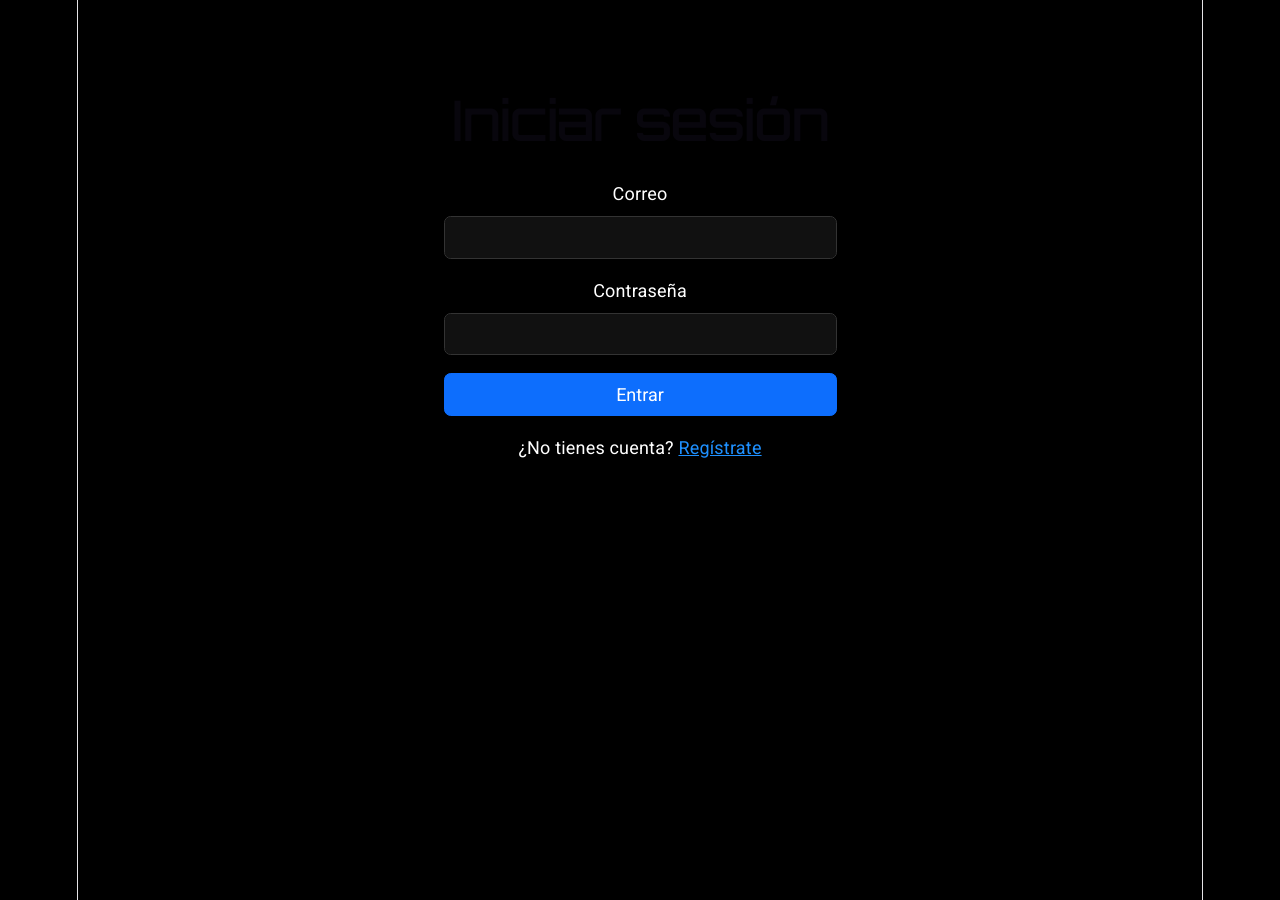
Test case: Login › muestra error si se envía vacío
This screenshot has width=1280, height=900.
Click the button "Entrar": click(640, 394) x1=444 y1=373 x2=836 y2=416
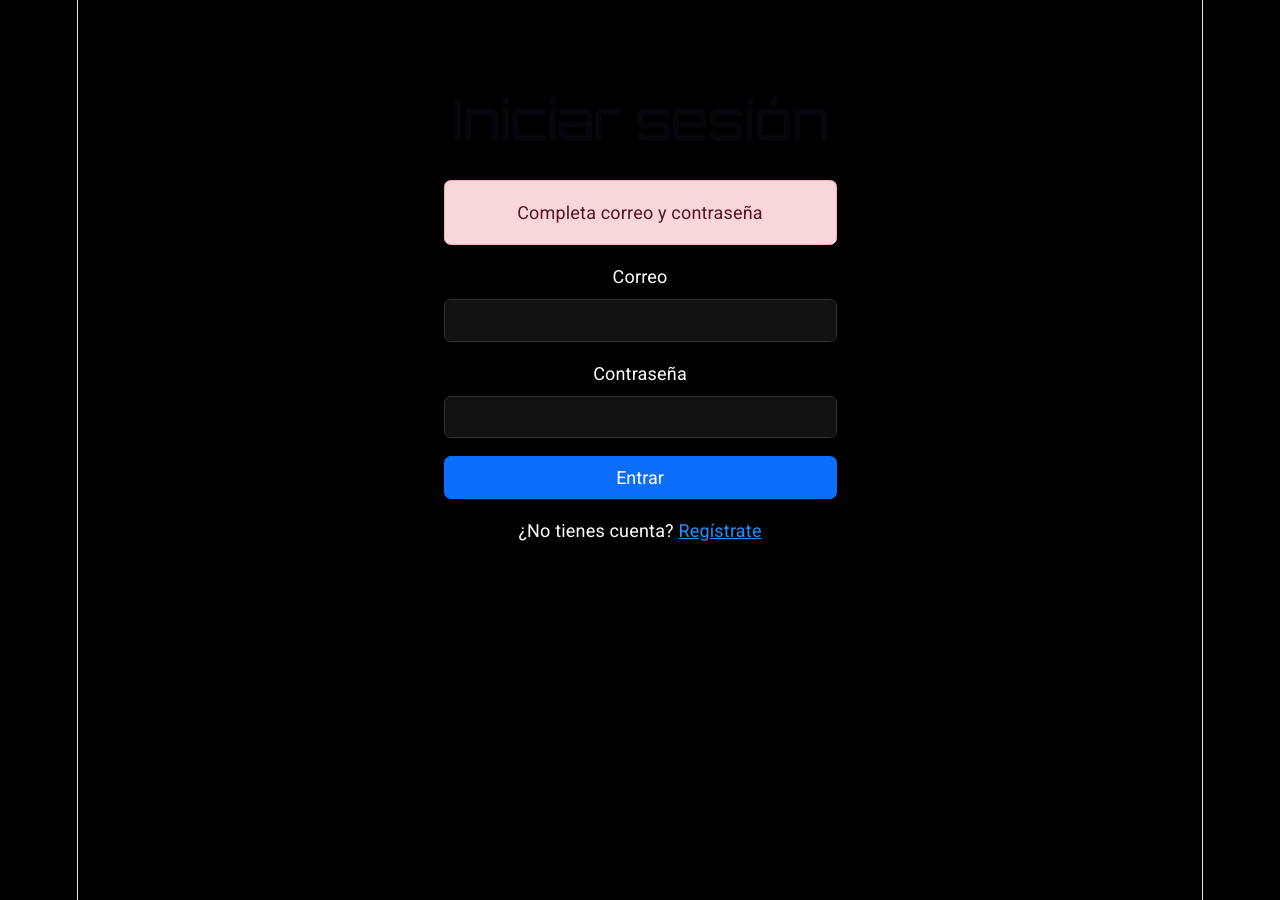
Check: the text "Completa correo y contraseña" is shown, box x1=444 y1=180 x2=836 y2=245
